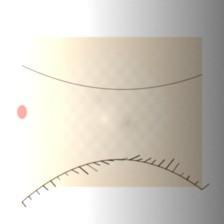corneal_ulcer: (75, 80, 137, 130)
